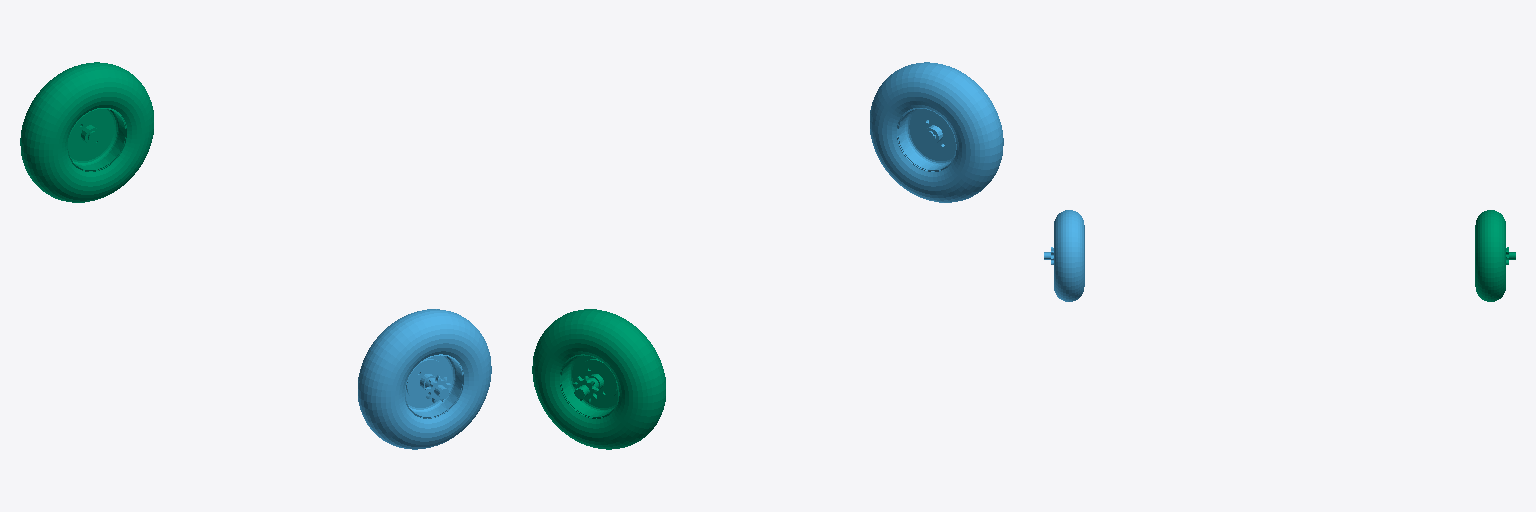
robot.urdf — soybot_1:
<?xml version="1.0"?>
<robot  name="soybot_1">


<!-- LINKS -->

<link name="base_link">
<visual>
  <origin xyz="0 0 0" rpy="0 0 0" />
  <geometry>
    <mesh
      filename="package://soybot_1/meshes/base_link.STL" />
  </geometry>
  <material
    name="">
    <color
      rgba="0.75294 0.75294 0.75294 1" />
  </material>
</visual>
<collision>
  <origin
    xyz="0 1.15 0.315"
    rpy="0 0 1.5707" />
  <geometry>
    <mesh
      filename="package://soybot_1/meshes/base_link_2.STL" />
  </geometry>
</collision>

<collision>
  <origin
    xyz="-0.525 1.05 0.115" rpy="0 0 1.5707" />
  <geometry>
  	<sphere radius="0.13"/>
  </geometry>
</collision>

<collision>
  <origin
    xyz="-0.525 -1.05 0.115" rpy="0 0 1.5707" />
  <geometry>
  	<sphere radius="0.13"/>
  </geometry>
</collision>

<inertial>
  <origin xyz="0 0 0.5" rpy="0 0 0" />
  <mass
    value="5.753" />
		<inertia 
		ixx = "0.667" ixy = "-00.010" ixz = "0.003" 
		iyy = "0.486" iyz = "0.00" 
		izz = "1.126"/>
</inertial>

</link>
  
<link name="right_wheel">
	<visual>
		<origin rpy="0 0 0" xyz="0 0 0"/>
		<geometry>
			<mesh filename = 
			"package://soybot_1/meshes/Right_wheel.STL" />
		</geometry>
	</visual>
	<collision>
		<origin rpy="0 0 0" xyz="0 -0.08 0"/>
		<geometry>
			<mesh filename = 
			"package://sb2_urdf/models/collision_wheel_8.dae" />
		</geometry>
	</collision>
	<inertial>
		<origin rpy="0 0 0" xyz="0.0 -0.08 0.00"/>
		<mass value="17.568"/>
		<inertia
		ixx = "0.28" ixy = "-0.00" ixz = "0.00"
		iyy = "0.49" iyz = "-0.00" 
		izz = "0.28"/>
	</inertial>
</link>

<link name="left_wheel">
	<visual>
		<origin rpy="0 0 3.1415" xyz="0 0 0"/>
		<geometry>
			<mesh filename = 
			"package://soybot_1/meshes/Right_wheel.STL" />
		</geometry>
	</visual>
	<collision>
		<origin rpy="0 0 3.1415" xyz="0 0.08 0"/>
		<geometry>
			<mesh filename = 
			"package://sb2_urdf/models/collision_wheel_8.dae" />
		</geometry>
	</collision>
	<inertial>
		<origin rpy="0 0 0" xyz="0.00 0.08 0.00"/>
		<mass value="17.568"/>
		<inertia
		ixx = "0.28" ixy = "-0.00" ixz = "0.00"
		iyy = "0.49" iyz = "-0.00" 
		izz = "0.28"/>
	</inertial>
</link>

<!-- JOINTS -->
<!--Wheels and base -->
<joint name="Right_wheel_hinge" type="continuous">
	<origin xyz="0.825 -0.955 0.225" rpy="0 0 0" />
	<parent link="base_link"/>
	<child link="right_wheel" />
	<axis xyz="0 1 0" />
	<dynamics damping="0.13" friction="0.02" />
</joint>

<joint name="Left_wheel_hinge" type="continuous">
	<origin xyz="0.825 0.955 0.225" rpy="0 0 0" />
	<parent link="base_link"/>
	<child link="left_wheel" />
	<axis xyz="0 1 0" />
	<dynamics damping="0.13" friction="0.02" />
</joint>

<!-- Plugins -->
<!-- Differential Driver Plugin -->
<gazebo>	
  <plugin name="differential_drive_controller" filename="libgazebo_ros_diff_drive.so">
    <alwaysOn>true</alwaysOn>
    <legacyMode>false</legacyMode>
    <updateRate>50</updateRate>
    <leftJoint>Left_wheel_hinge</leftJoint>
    <rightJoint>Right_wheel_hinge</rightJoint>
    <wheelSeparation>2.1</wheelSeparation>
    <wheelDiameter>0.4</wheelDiameter>
    <torque>500</torque>
    <commandTopic>/soybot/cmd_vel</commandTopic>
    <odometryTopic>/odom</odometryTopic>
    <odometryFrame>/odom</odometryFrame>
    <robotBaseFrame>base_link</robotBaseFrame>
    <wheelTorque>2000</wheelTorque>
  </plugin>  
</gazebo>


   
  
</robot>

--- Facts derived from the render (not from the file) ---
The picture shows the robot from 3 angles, left to right: view 1: azimuth 30°, elevation 25°; view 2: azimuth 150°, elevation 25°; view 3: azimuth 270°, elevation 25°; orthographic projection.
Robot: soybot_1 — 3 links, 2 joints (2 continuous); root link base_link; default pose: every joint at zero.
Visible links, largest first — view 1: right_wheel, left_wheel; view 2: right_wheel, left_wheel; view 3: right_wheel, left_wheel.
Link boxes in pixels (left/top/right/bottom): right_wheel: left=358, top=309, right=491, bottom=449; left_wheel: left=20, top=62, right=153, bottom=202; right_wheel: left=870, top=62, right=1003, bottom=202; left_wheel: left=532, top=309, right=665, bottom=449; right_wheel: left=1044, top=210, right=1084, bottom=301; left_wheel: left=1475, top=210, right=1515, bottom=301.
Size in the robot's own frame: 0.4497 by 2.3 by 0.4504 metres.
2 mesh visuals loaded from 2 distinct referenced files (1 binary STL); not drawn: 1 (reference not matched to a file when rendering).